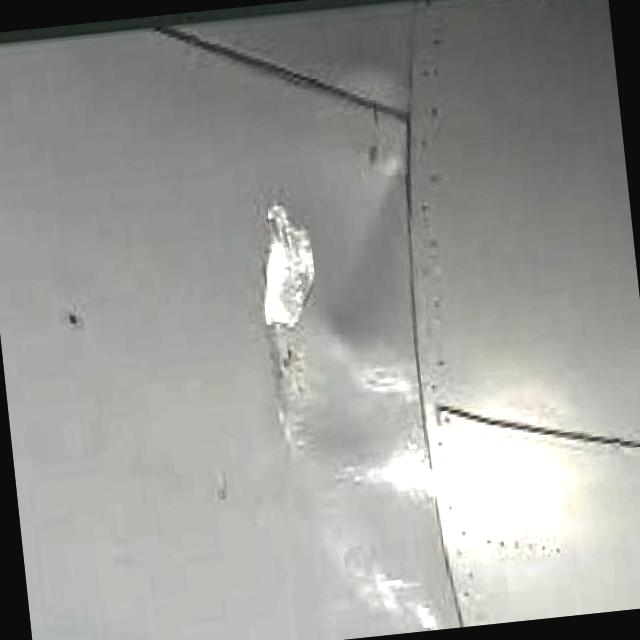dent: (261, 193, 324, 455)
